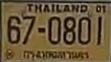0: (78, 16, 90, 44), (48, 16, 60, 44)
1: (96, 16, 101, 44), (97, 16, 101, 44)
6: (6, 15, 20, 43)
7: (22, 15, 35, 44)
8: (63, 16, 75, 44)
BKK: (21, 48, 90, 62)
